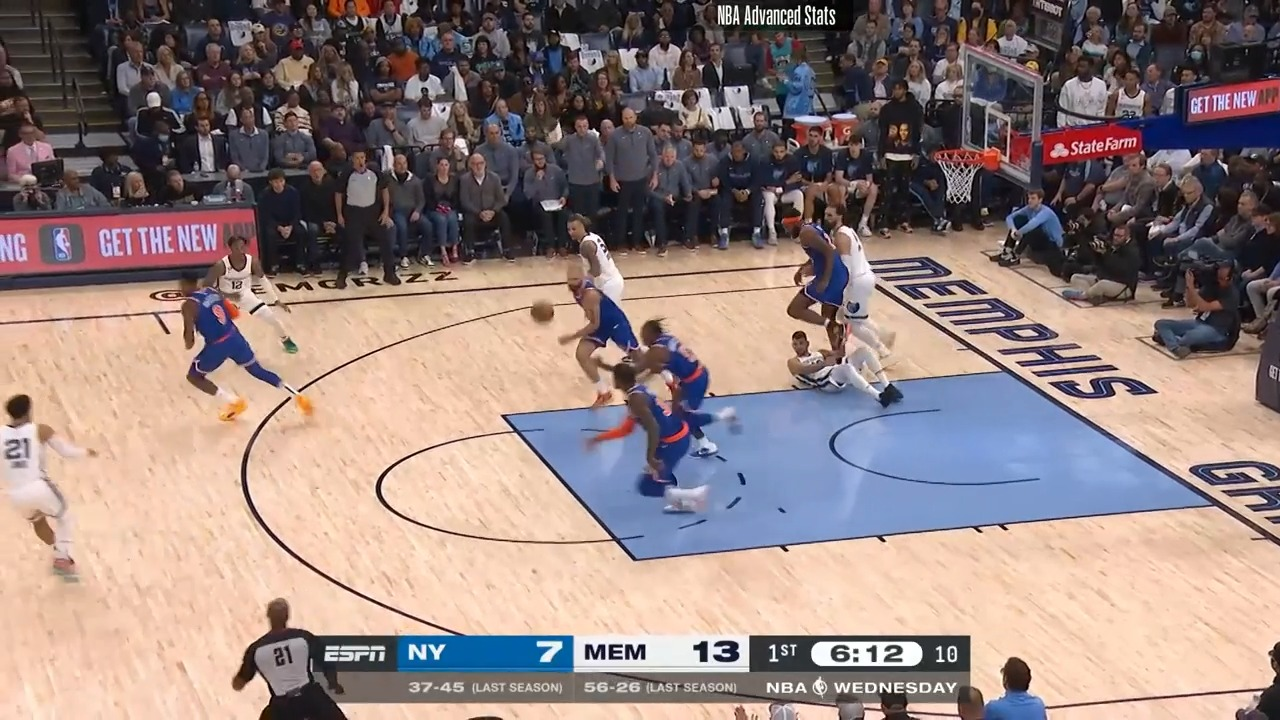net: (933, 142, 1004, 207)
player: (582, 355, 700, 519), (172, 264, 289, 425), (1, 393, 92, 589), (635, 320, 744, 464), (816, 202, 895, 380), (555, 263, 642, 402), (208, 235, 304, 360), (779, 326, 899, 410), (787, 203, 845, 341), (562, 216, 628, 313)
referee: (231, 594, 358, 718), (336, 148, 396, 290)
